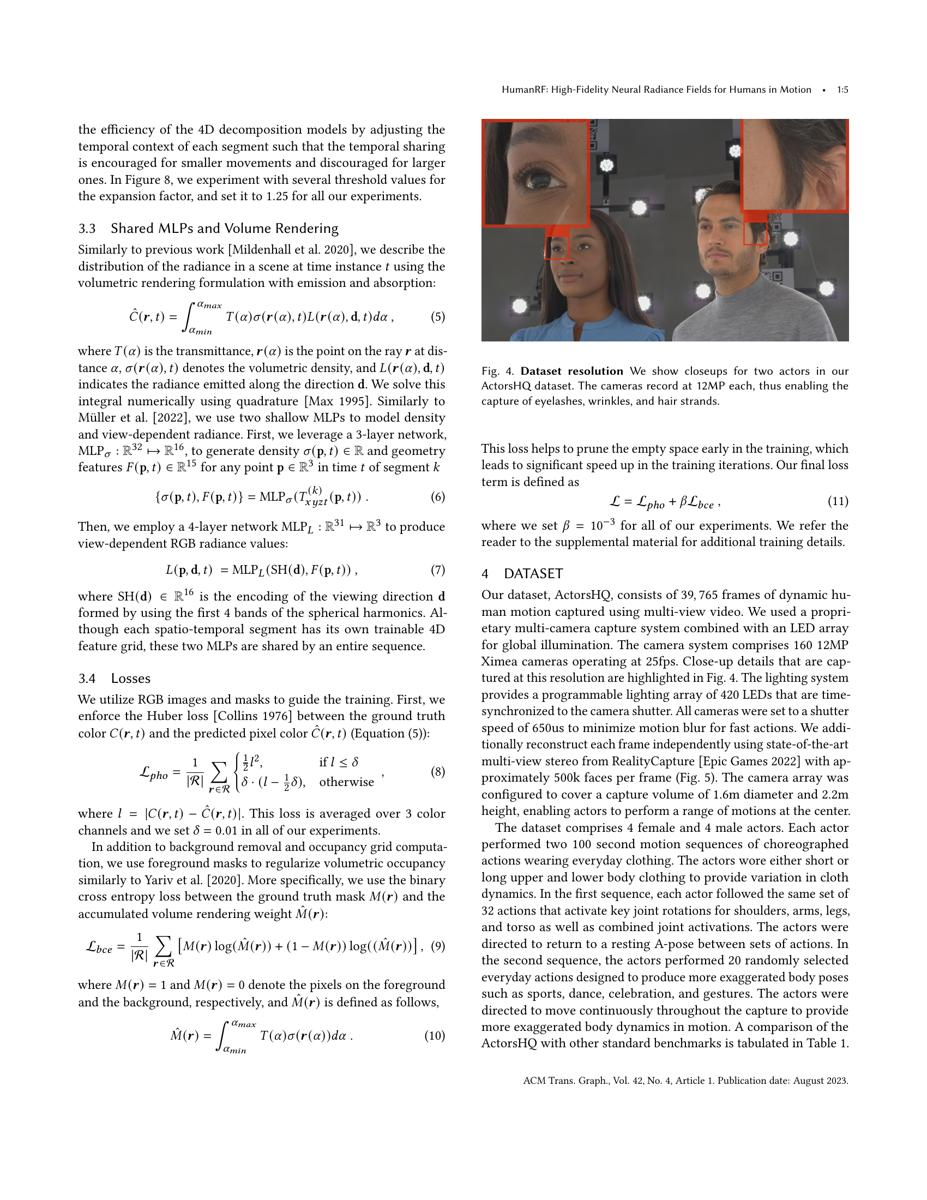figure: (478, 116, 852, 411)
text: (72, 668, 451, 1060), (72, 342, 451, 656), (475, 562, 854, 820), (475, 820, 854, 1054), (72, 121, 451, 340), (475, 437, 854, 554)
